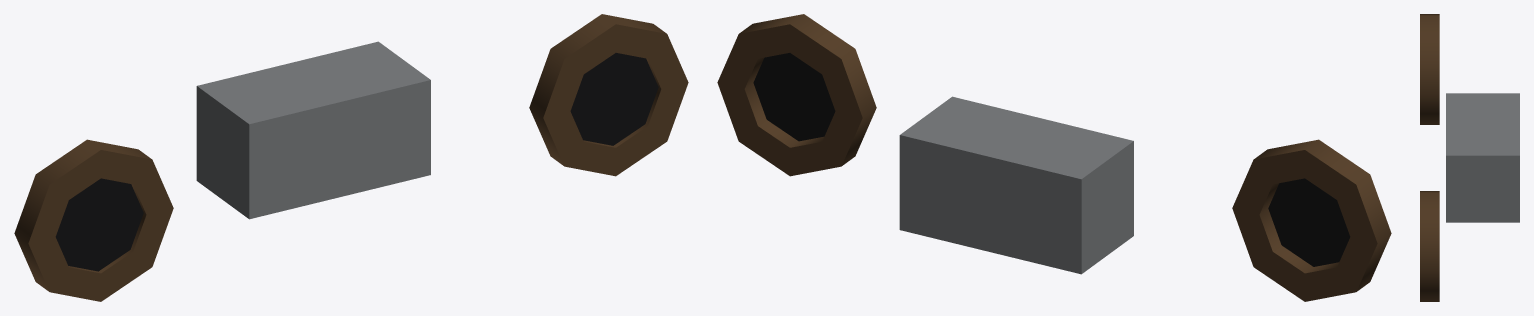
Rendered from ec2_motor.obj.
3 views of the same model, side by side, from view 1: azimuth 30°, elevation 25°; view 2: azimuth 150°, elevation 25°; view 3: azimuth 270°, elevation 25° (orthographic). The views are drawn at different scales.
Parts seen in each view (by area): view 1: ec2_motor; view 2: ec2_motor; view 3: ec2_motor.
Boxes of the visible parts, bbox=[...] form: ec2_motor: bbox=[14, 14, 688, 301]; ec2_motor: bbox=[717, 14, 1391, 301]; ec2_motor: bbox=[1420, 14, 1519, 301].
Bounding box in the file's own units: 4.36 × 0.96 × 0.81.
